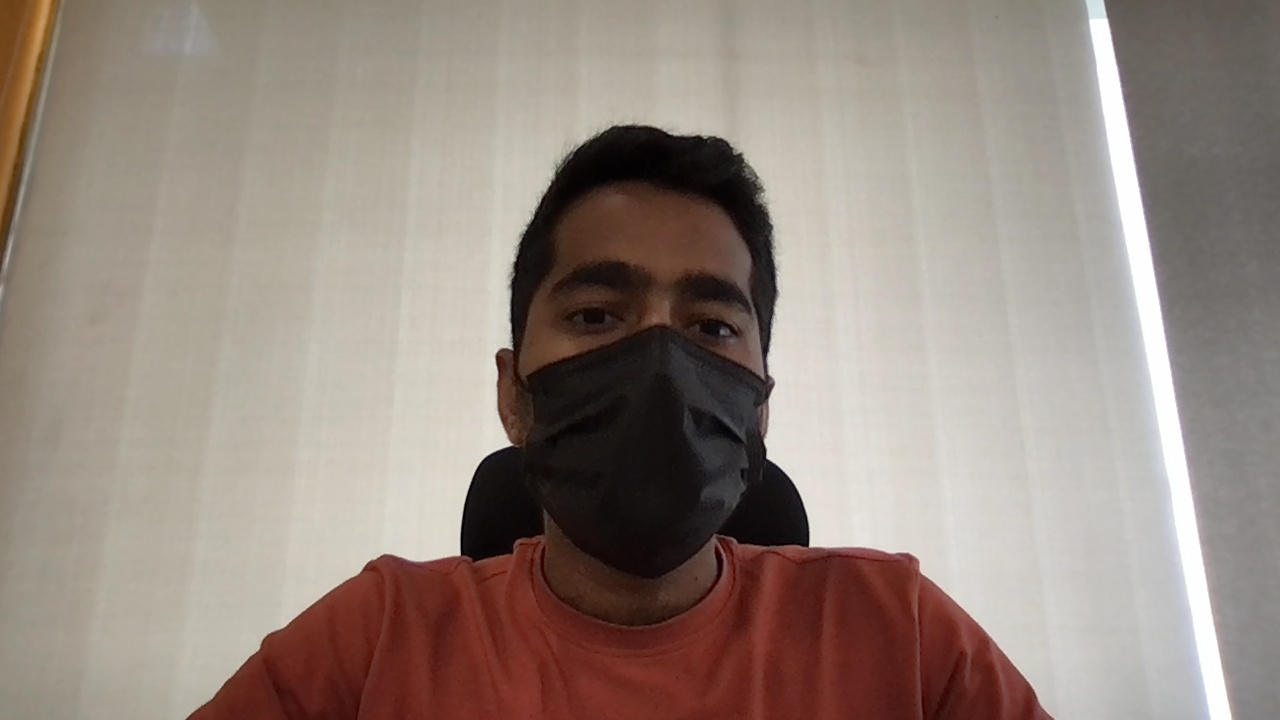mask: (516, 323, 772, 578)
